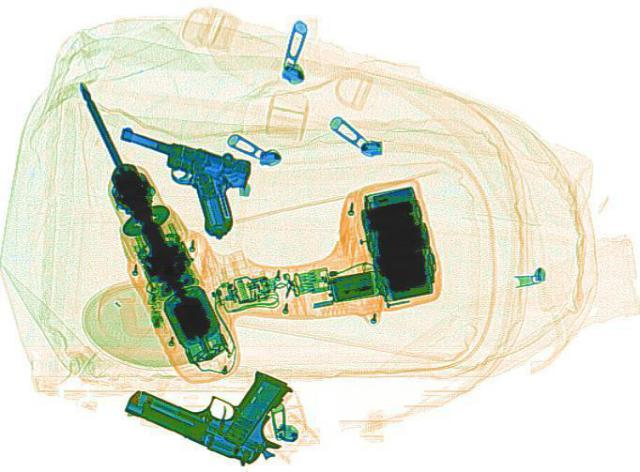Gun: (111, 338, 316, 467), (78, 124, 268, 238)
